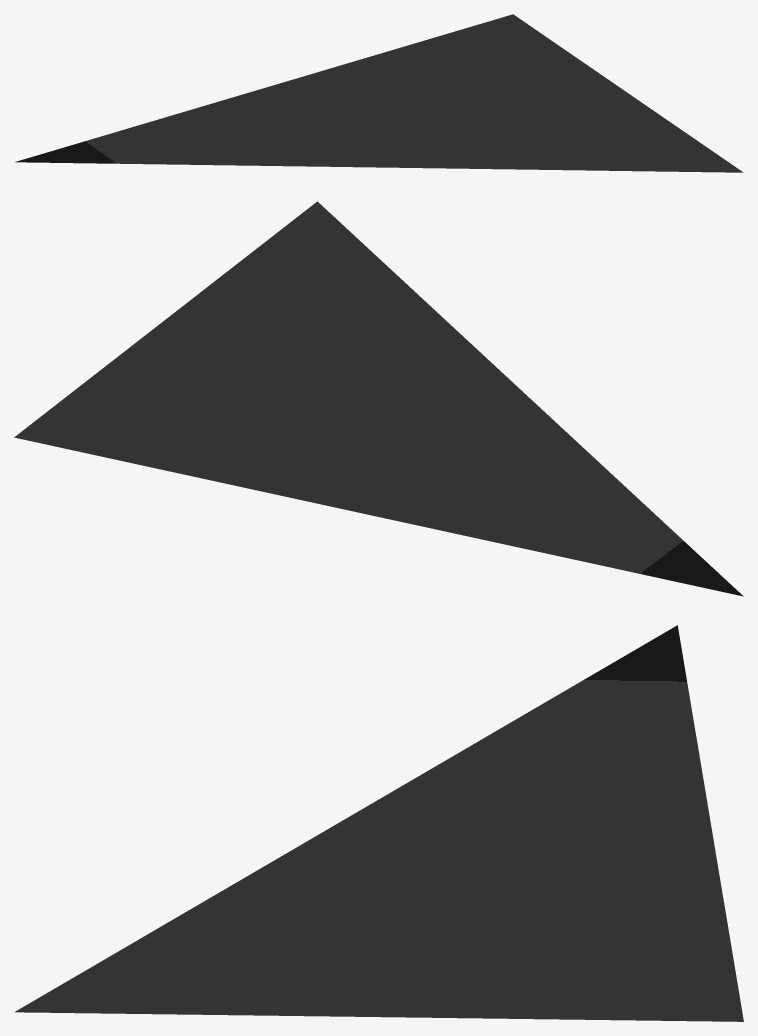
The model's file is Tile_000_003_L14_4441.glb.
3 views of the same model, one above another, from view 1: azimuth 30°, elevation 25°; view 2: azimuth 150°, elevation 25°; view 3: azimuth 270°, elevation 25° (orthographic). The views are drawn at different scales.
Visible parts, largest first — view 1: rtc; view 2: rtc; view 3: rtc.
Part boxes in pixels (left/top/right/bottom): rtc: left=15, top=14, right=743, bottom=172; rtc: left=14, top=201, right=743, bottom=596; rtc: left=14, top=625, right=743, bottom=1021.
Size of the model in its own units: 0.321 by 0.00794 by 0.2422.
Materials: 1 (1 with a texture image).
